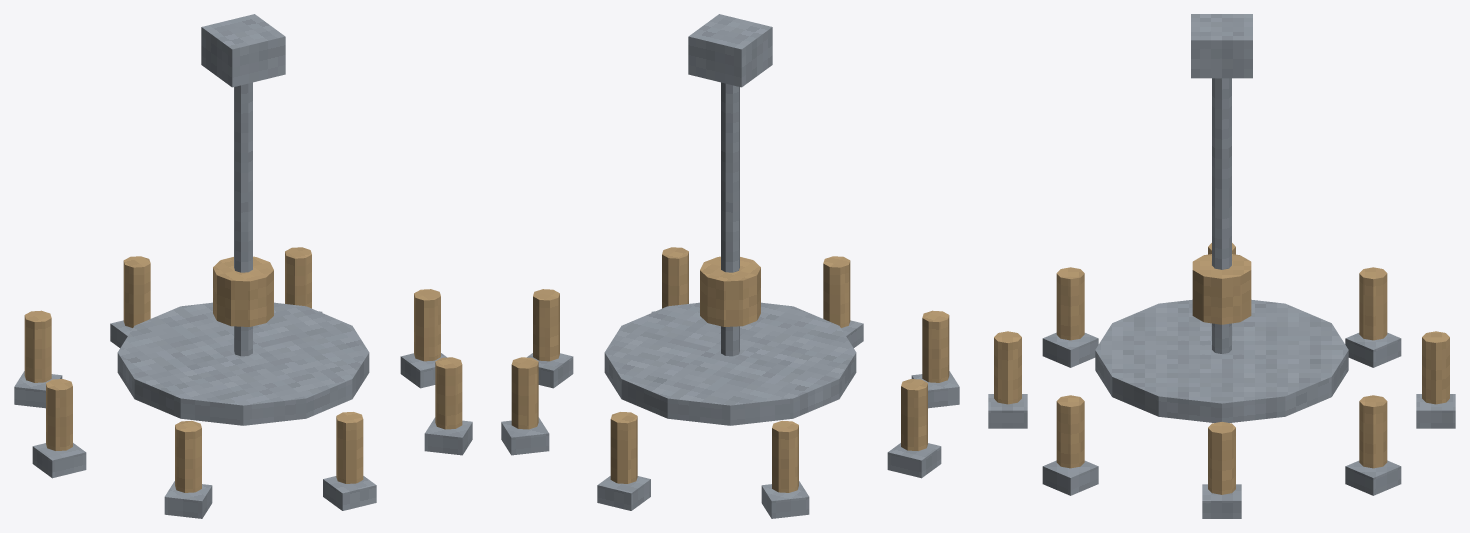
Rendered from level_blockout_ballroom_chandelier.glb.
3 views of the same model, side by side, from view 1: azimuth 30°, elevation 25°; view 2: azimuth 150°, elevation 25°; view 3: azimuth 270°, elevation 25° (orthographic).
Parts seen in each view (by area): view 1: level_blockout_ballroom_chandelier; view 2: level_blockout_ballroom_chandelier; view 3: level_blockout_ballroom_chandelier.
Boxes of the visible parts, x1,y1,x2,y2 form: level_blockout_ballroom_chandelier: (14, 14, 472, 518); level_blockout_ballroom_chandelier: (501, 14, 959, 518); level_blockout_ballroom_chandelier: (988, 14, 1455, 518).
Size of the model in its own units: 1.66 by 1.54 by 1.66.
Materials: 2 (2 with a texture image).
